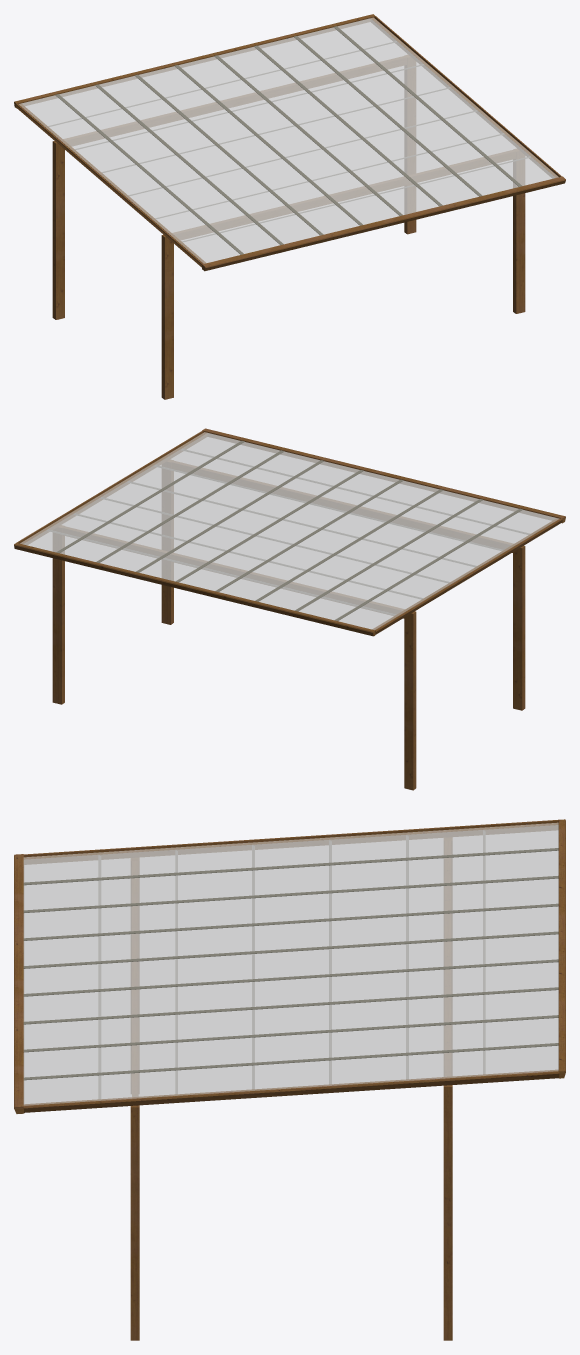
The model's file is APwide_5450-22_naturalpine.fbx.
3 renders of one model, top to bottom at view 1: azimuth 30°, elevation 25°; view 2: azimuth 150°, elevation 25°; view 3: azimuth 270°, elevation 25°, orthographic. The views are drawn at different scales.
Visible parts, largest first — view 1: APwide_5450-22_naturalpine; view 2: APwide_5450-22_naturalpine; view 3: APwide_5450-22_naturalpine.
Part boxes in pixels (box(x1,y1,x2,y2)): APwide_5450-22_naturalpine: box(14, 14, 565, 399); APwide_5450-22_naturalpine: box(14, 428, 565, 790); APwide_5450-22_naturalpine: box(14, 819, 565, 1340).
Bounding box in the file's own units: 535 × 266 × 494.
Materials: 4 (3 with a texture image).
